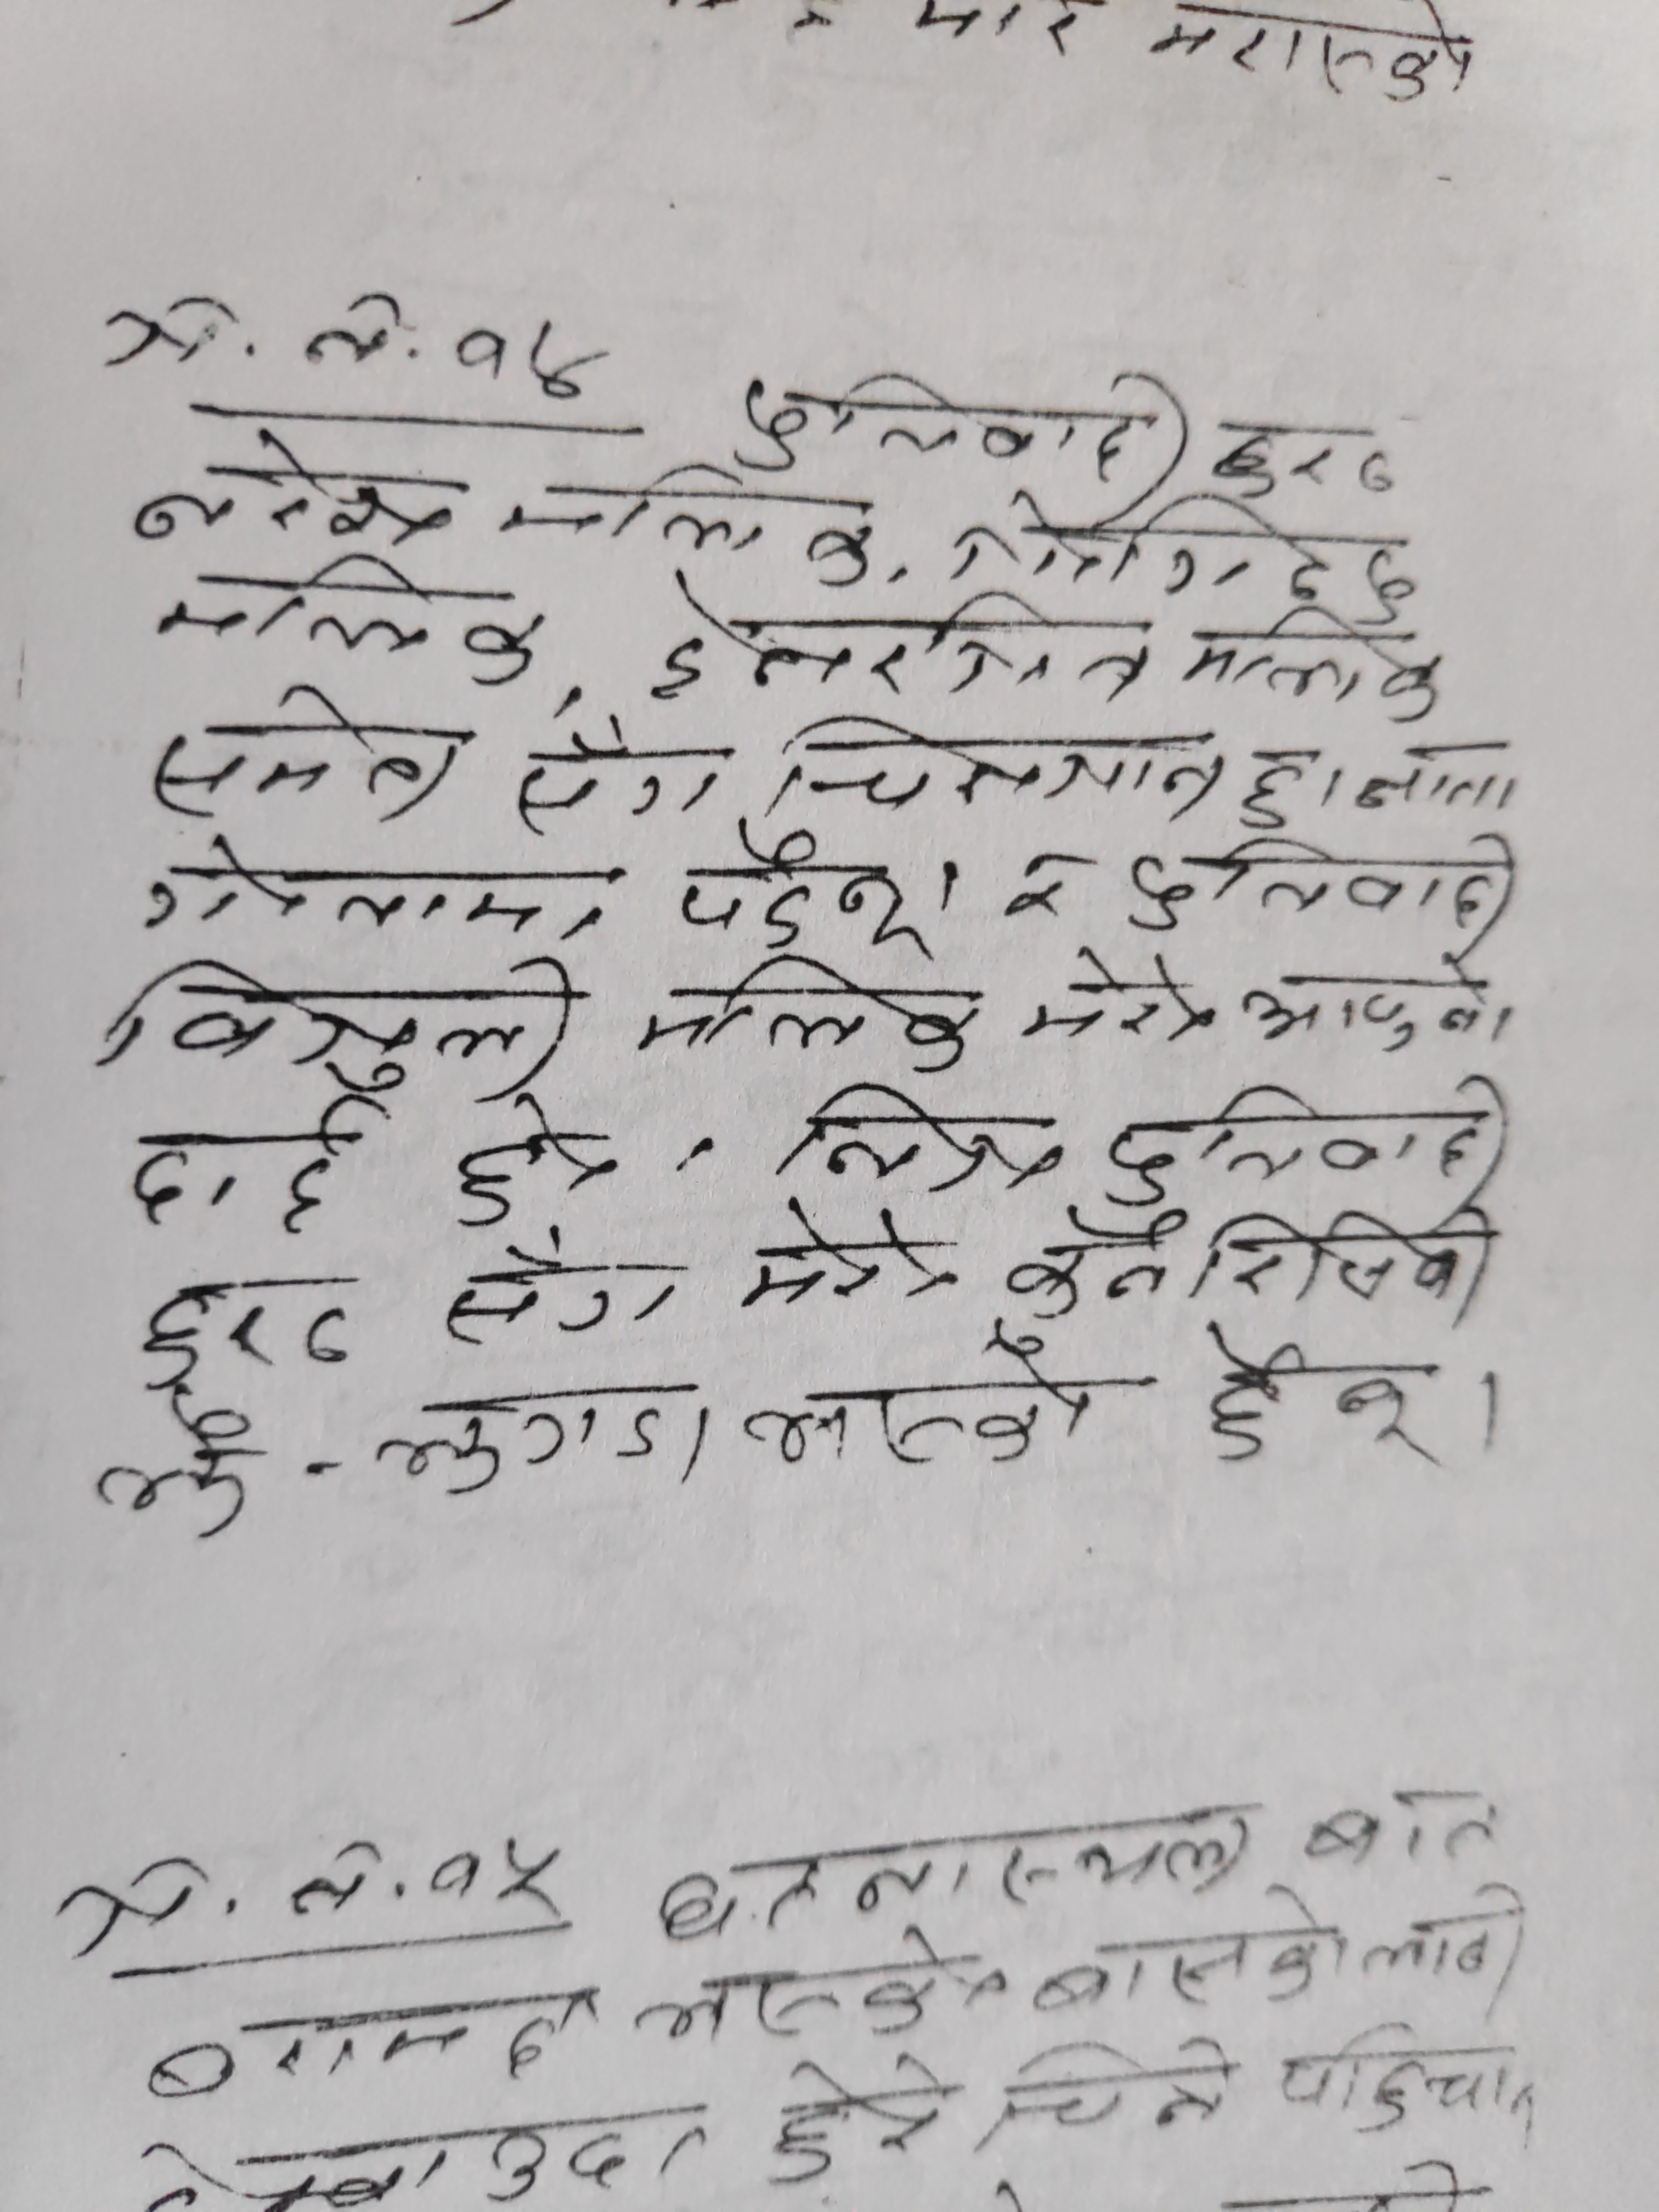text: (645, 1792, 1251, 1946), (638, 577, 1157, 712), (105, 954, 586, 1092), (737, 354, 1192, 489), (1082, 1071, 1513, 1209), (131, 829, 627, 944), (153, 547, 551, 690), (490, 456, 889, 596), (948, 493, 1419, 603), (756, 716, 1225, 826), (741, 1334, 1096, 1474), (131, 1989, 579, 2099), (1115, 829, 1518, 951), (143, 686, 472, 826), (634, 958, 995, 1076), (122, 425, 469, 547), (634, 1932, 995, 2048), (376, 1379, 725, 1496), (1187, 1312, 1438, 1463), (1025, 1902, 1347, 2015), (127, 1087, 369, 1231), (1202, 1200, 1513, 1312), (971, 2029, 1230, 2161), (1180, 599, 1445, 728), (673, 822, 931, 954), (1230, 942, 1521, 1057), (786, 1080, 1063, 1197), (138, 1264, 373, 1379), (444, 1231, 688, 1341), (770, 2041, 941, 2189), (509, 723, 728, 834), (112, 1386, 263, 1538), (441, 1087, 612, 1216), (732, 1216, 960, 1312), (1006, 1202, 1183, 1318), (1018, 951, 1218, 1054), (1298, 1784, 1513, 1879), (999, 845, 1082, 942), (1237, 742, 1305, 833)
